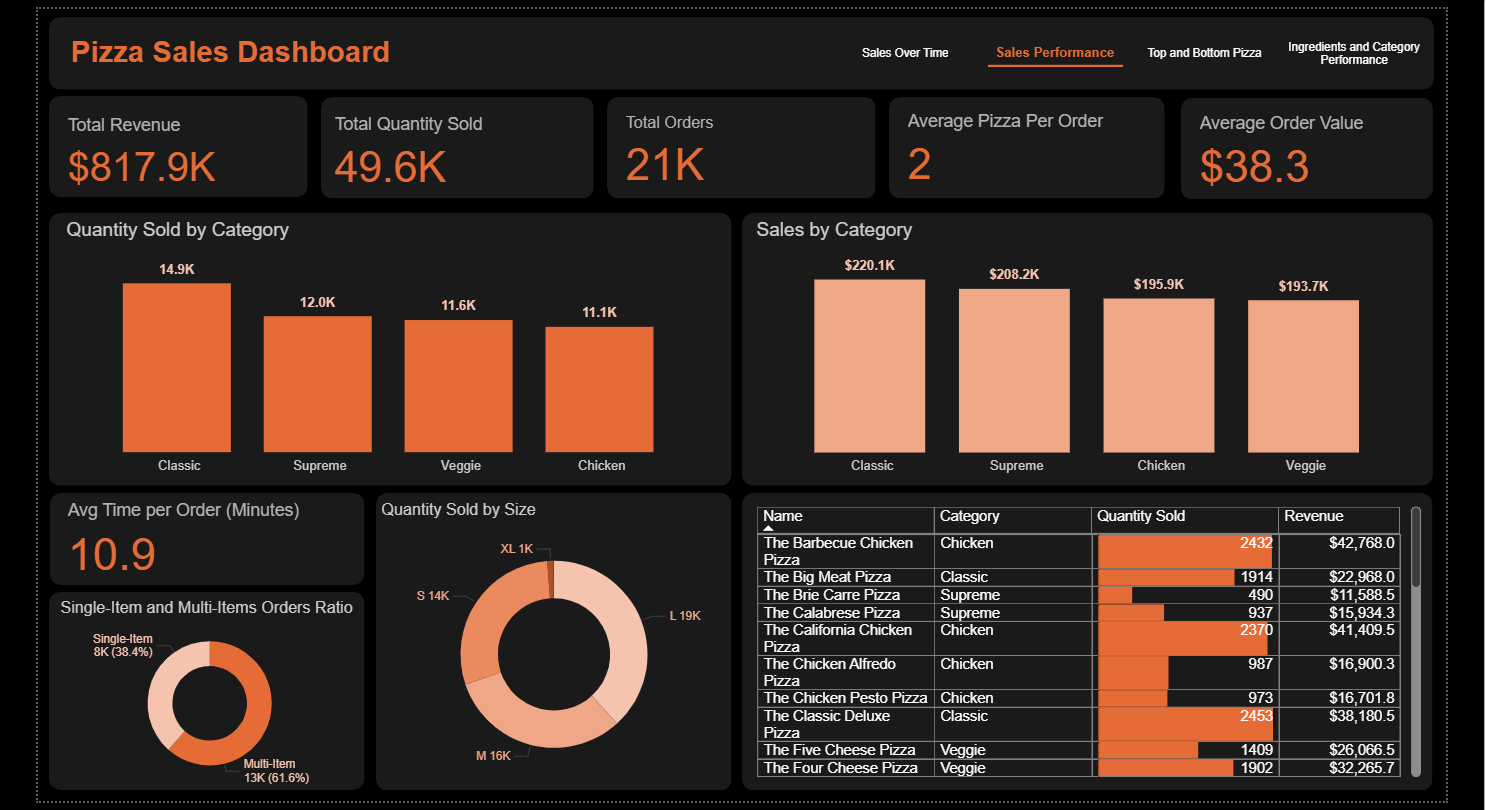

Layout of this report page (visuals, bound fields, positions):
{"tool":"powerbi","page":{"name":"Sales Performance","canvas":[1280,720],"ordinal":1},"visuals":[{"type":"shape","box":[9.7,530.1,286.9,179.9],"z":0},{"type":"shape","box":[0,0,1279.7,72.5],"z":1000},{"type":"shape","box":[9.8,79.1,235.5,91.8],"z":2000},{"type":"shape","box":[257,79.7,248.1,92.2],"z":3000},{"type":"shape","box":[517.6,79.7,244.5,92.2],"z":4000},{"type":"shape","box":[773.7,79.7,250.7,92.2],"z":5000},{"type":"shape","box":[1038.8,80.6,229.3,92.2],"z":6000},{"type":"cardVisual","fields":{"Data":["Sheet1.Total Revenue"]},"box":[9.7,80.7,189.7,89.5],"z":7000},{"type":"cardVisual","fields":{"Data":["Sheet1.Total Quantity Sold"]},"box":[252.9,79.8,251.9,89.5],"z":8000},{"type":"cardVisual","fields":{"Data":["Sheet1.Average Order Value"]},"box":[1038.8,78.8,237.3,90.5],"z":9000},{"type":"cardVisual","fields":{"Data":["Sheet1.Average Unit Per Order"]},"box":[773.3,76.8,250.9,92.4],"z":10000},{"type":"cardVisual","title":"Avg Time Per Order","fields":{"Data":["Count(Sheet1.order_id)"]},"box":[517.4,77.8,239.3,91.4],"z":11000},{"type":"shape","box":[9.7,185.8,620.5,248],"z":12000},{"type":"shape","box":[640,185.8,628.3,248],"z":13000},{"type":"shape","box":[566.1,439.6,702.2,270.4],"z":14000},{"type":"shape","box":[307.4,439.6,250.9,270.4],"z":15000},{"type":"textbox","box":[472.8,15.2,377,43],"z":16000},{"type":"columnChart","title":"Sales by Category","fields":{"Category":["Sheet1.category"],"Y":["Sheet1.Total Revenue"]},"box":[647.8,189.7,614.7,241.2],"z":17000},{"type":"columnChart","title":"Quantity Sold by Category","fields":{"Y":["Sheet1.Total Quantity Sold"],"Category":["Sheet1.category"]},"box":[20.4,189.7,599.1,241.2],"z":18000},{"type":"donutChart","title":"Single-Item and Multi-Items Orders Ratio","fields":{"Category":["OrderPizzaCount.Order Type"],"Y":["CountNonNull(OrderPizzaCount.order_id)"]},"box":[11.7,537.9,285,172.2],"z":19000},{"type":"tableEx","fields":{"Values":["Sheet1.name","Sheet1.category","Sheet1.Total Quantity Sold","Sheet1.Total Revenue"]},"box":[573.9,446.4,688.6,256.8],"z":20000},{"type":"shape","box":[10.7,439.6,286,83.6],"z":21000},{"type":"cardVisual","fields":{"Data":["Sheet1.Average Time Difference (Minutes) (Cleaned)"]},"box":[9.7,430.9,286.9,95.3],"z":22000},{"type":"donutChart","title":"Quantity Sold by Size","fields":{"Category":["Sheet1.size"],"Y":["Sheet1.Total Quantity Sold"]},"box":[315.1,447.4,243.2,254.8],"z":23000}]}

Visuals, with their boxes on the page's 1280x720 design canvas (x1, y1, x2, y2). These are canvas units, not pixel positions in the 1486x810 screenshot, which may show the page scaled, cropped or inside an application window:
shape: bbox(10, 530, 297, 710)
shape: bbox(0, 0, 1280, 72)
shape: bbox(10, 79, 245, 171)
shape: bbox(257, 80, 505, 172)
shape: bbox(518, 80, 762, 172)
shape: bbox(774, 80, 1024, 172)
shape: bbox(1039, 81, 1268, 173)
cardVisual - Sheet1.Total Revenue: bbox(10, 81, 199, 170)
cardVisual - Sheet1.Total Quantity Sold: bbox(253, 80, 505, 169)
cardVisual - Sheet1.Average Order Value: bbox(1039, 79, 1276, 169)
cardVisual - Sheet1.Average Unit Per Order: bbox(773, 77, 1024, 169)
"Avg Time Per Order" cardVisual: bbox(517, 78, 757, 169)
shape: bbox(10, 186, 630, 434)
shape: bbox(640, 186, 1268, 434)
shape: bbox(566, 440, 1268, 710)
shape: bbox(307, 440, 558, 710)
textbox: bbox(473, 15, 850, 58)
"Sales by Category" columnChart: bbox(648, 190, 1262, 431)
"Quantity Sold by Category" columnChart: bbox(20, 190, 620, 431)
"Single-Item and Multi-Items Orders Ratio" donutChart: bbox(12, 538, 297, 710)
tableEx - Sheet1.name x Sheet1.category: bbox(574, 446, 1262, 703)
shape: bbox(11, 440, 297, 523)
cardVisual - Sheet1.Average Time Difference (Minutes) (Cleaned): bbox(10, 431, 297, 526)
"Quantity Sold by Size" donutChart: bbox(315, 447, 558, 702)
